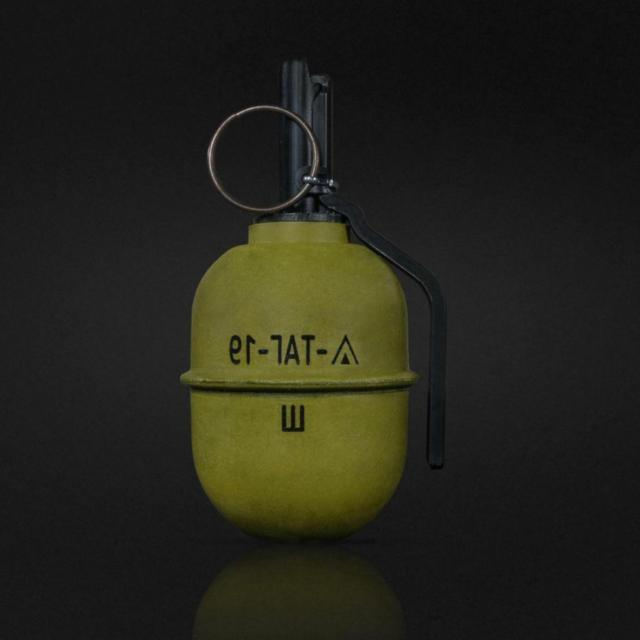grenade: (183, 61, 446, 546)
